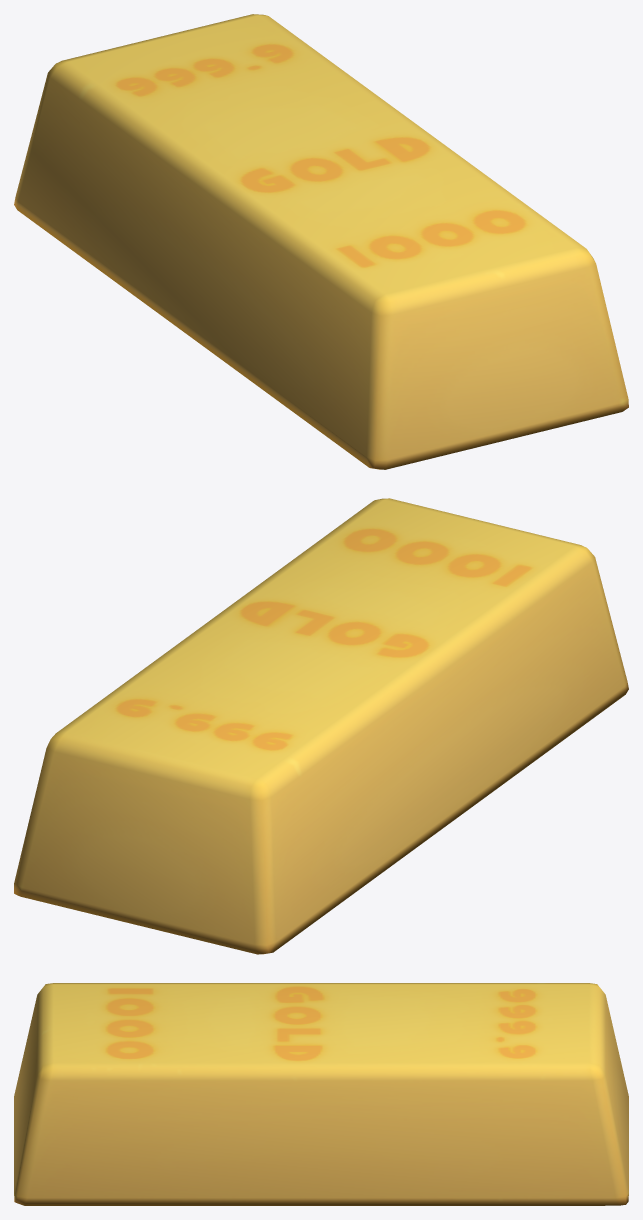
File: BankGoldBars01_3.FBX
3 views of the same model, one above another, from view 1: azimuth 30°, elevation 25°; view 2: azimuth 150°, elevation 25°; view 3: azimuth 270°, elevation 25° (orthographic). The views are drawn at different scales.
Parts seen in each view (by area): view 1: BankGoldBars01_3; view 2: BankGoldBars01_3; view 3: BankGoldBars01_3.
Part boxes in pixels (x1,y1,x2,y2): BankGoldBars01_3: [14, 14, 628, 469]; BankGoldBars01_3: [14, 498, 628, 954]; BankGoldBars01_3: [14, 983, 628, 1205].
Size of what is drawn, in the model's own units: 0.1591 by 0.0916 by 0.3871.
